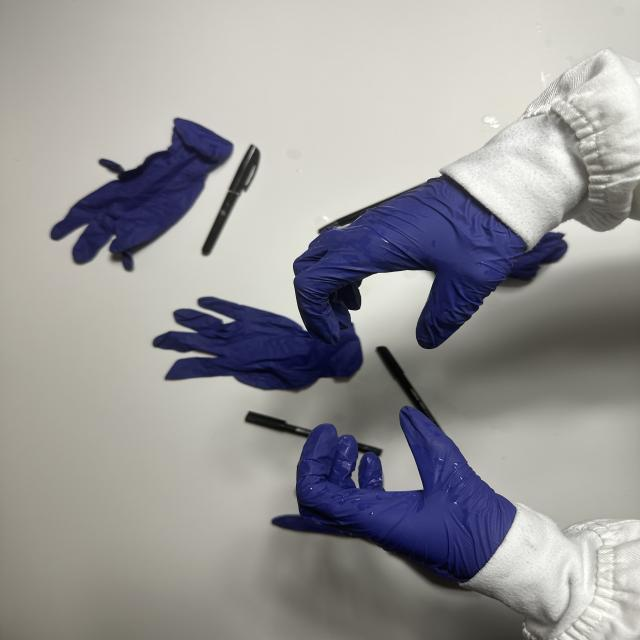gloves_contaminated: (294, 178, 526, 348), (296, 406, 516, 582)
